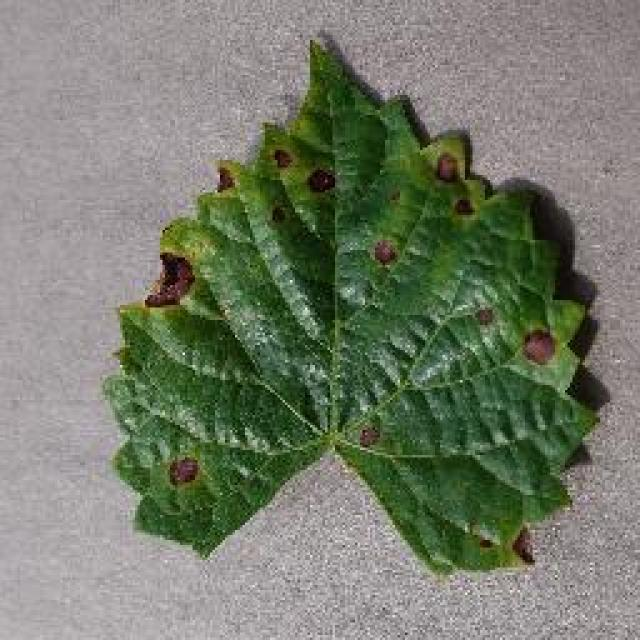Grape___Black_rot: (95, 41, 612, 580)
